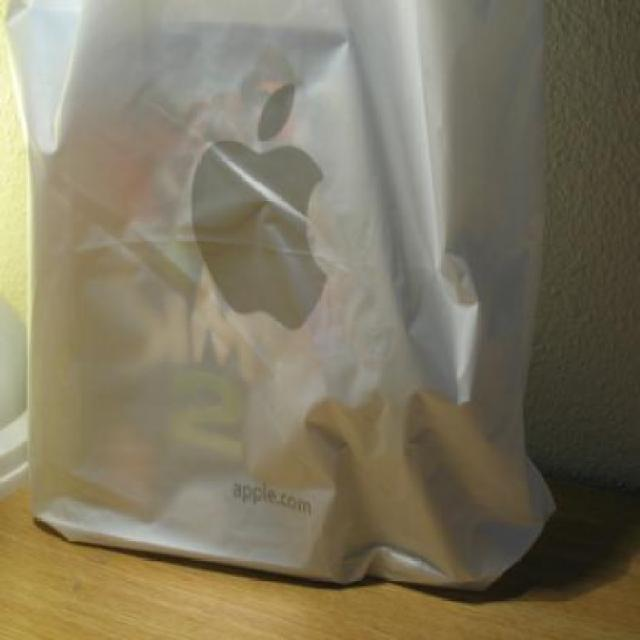plastic bag: (0, 0, 562, 586)
